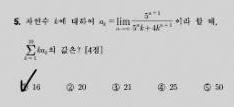choice: (19, 77, 30, 93)
not-choice: (64, 81, 76, 92), (110, 82, 121, 92), (156, 82, 166, 92), (202, 82, 212, 92)
